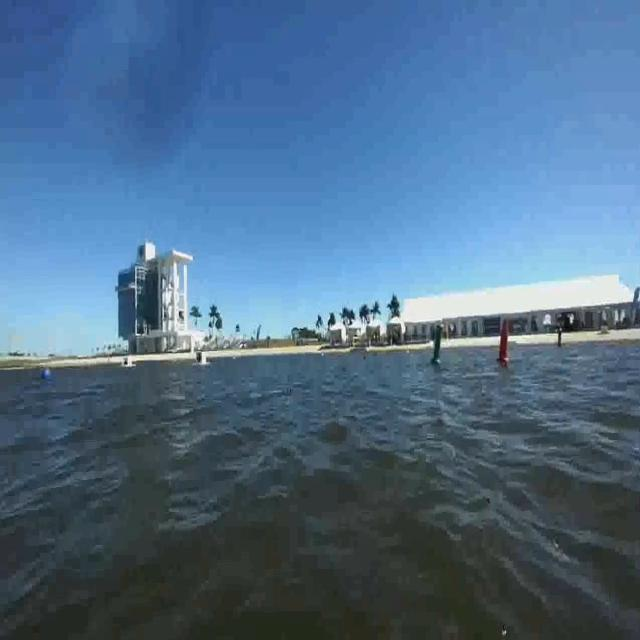blue-buoy: (39, 358, 54, 380)
green-column-buoy: (427, 312, 449, 373)
red-column-buoy: (493, 314, 516, 379)
